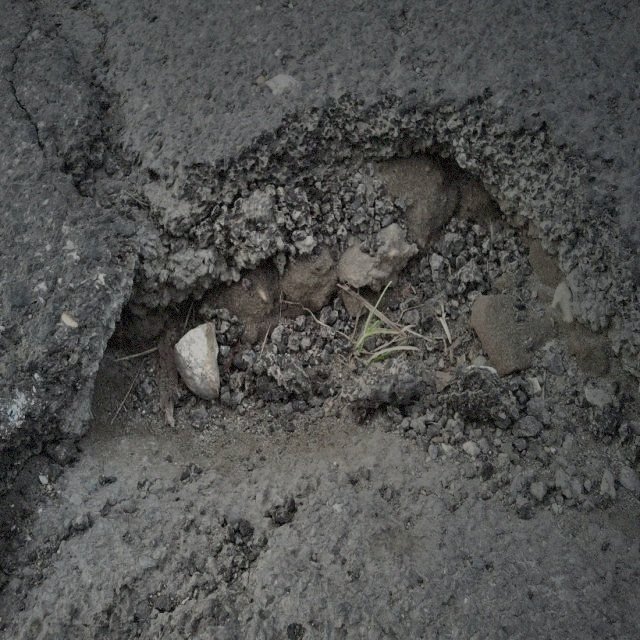pothole: (76, 102, 587, 540)
